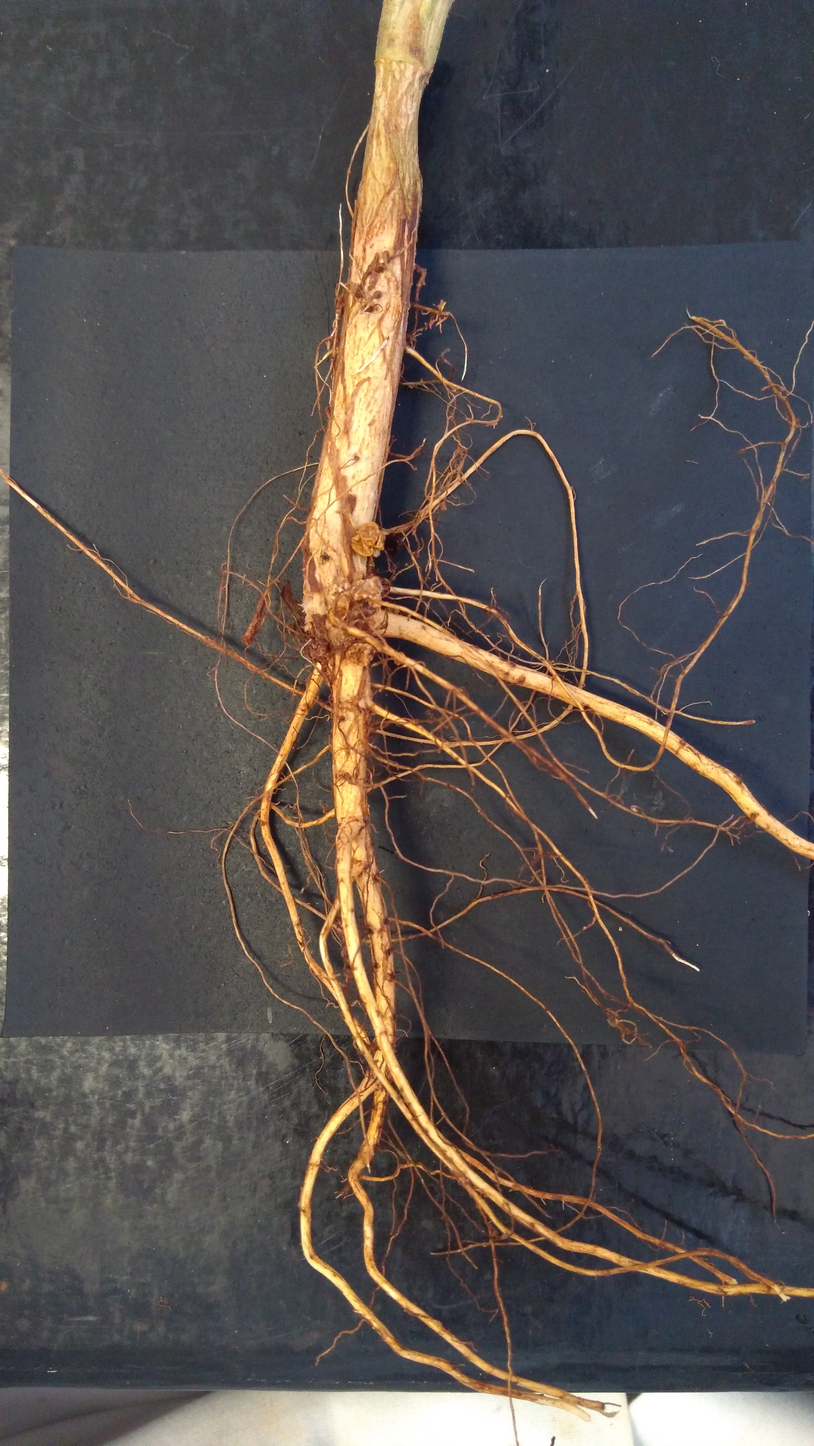nodule: (350, 521, 386, 557), (346, 598, 382, 622), (344, 641, 377, 667), (351, 576, 383, 602), (326, 627, 357, 650), (308, 637, 333, 663), (287, 620, 307, 648), (325, 606, 348, 630), (342, 943, 354, 978), (375, 575, 391, 598), (335, 592, 350, 608), (392, 651, 406, 666), (458, 686, 470, 699), (426, 709, 436, 720), (438, 501, 448, 511), (324, 406, 331, 418)
